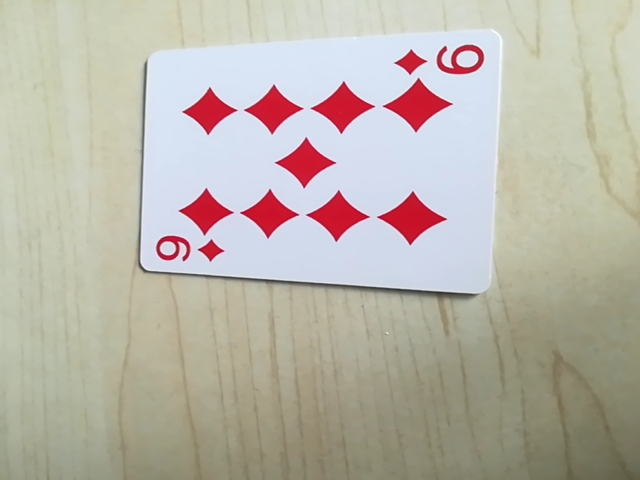fk 9: (394, 36, 491, 85), (151, 231, 229, 271)
